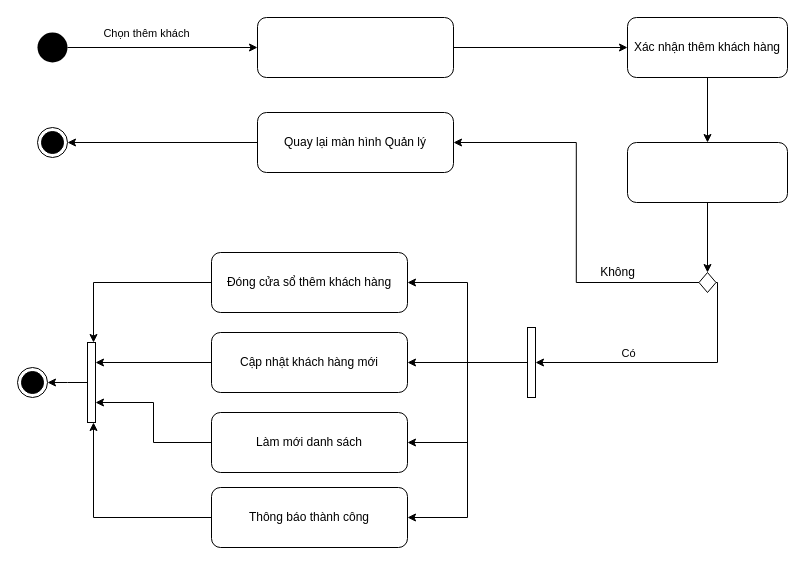
Some shapes in this 805 by 565 pixel diagram are drawn without their labels. Each missing label, with the centre of its shape:
"Kiểm tra thông tin hợp lệ" belongs at pixel 707 172.
"Nhập thông tin khách hàng" belongs at pixel 355 47.
